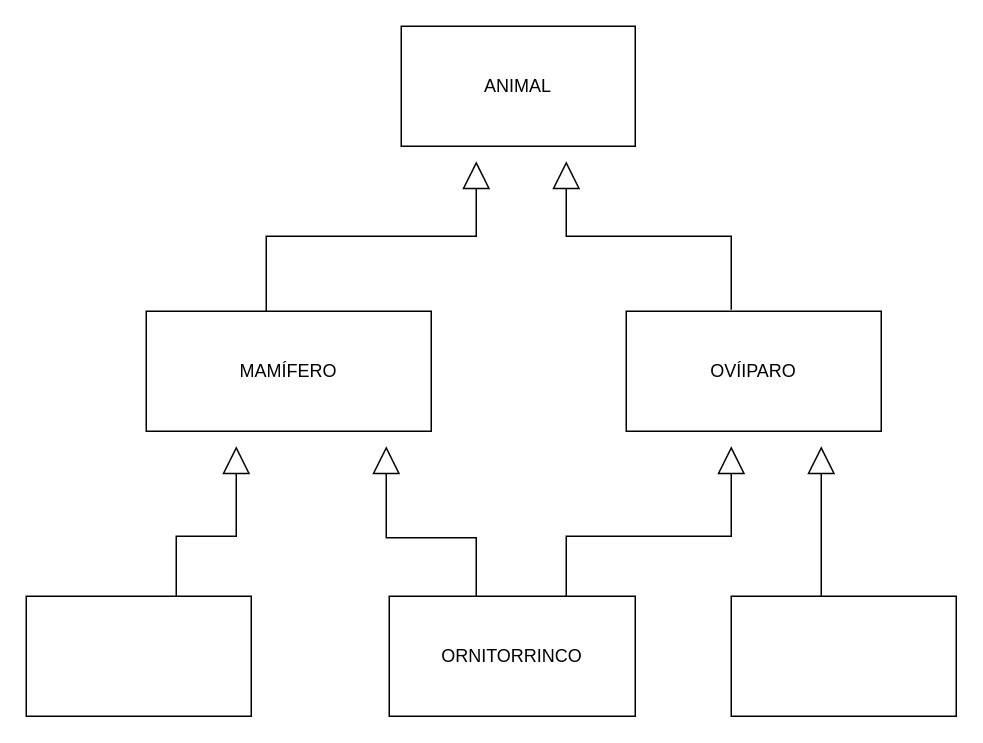
Some shapes in this 983 by 743 pixel diagram are drawn without their labels. Each missing label, with the centre of its shape:
GATO: point 138,655
POLLO: point 843,655
